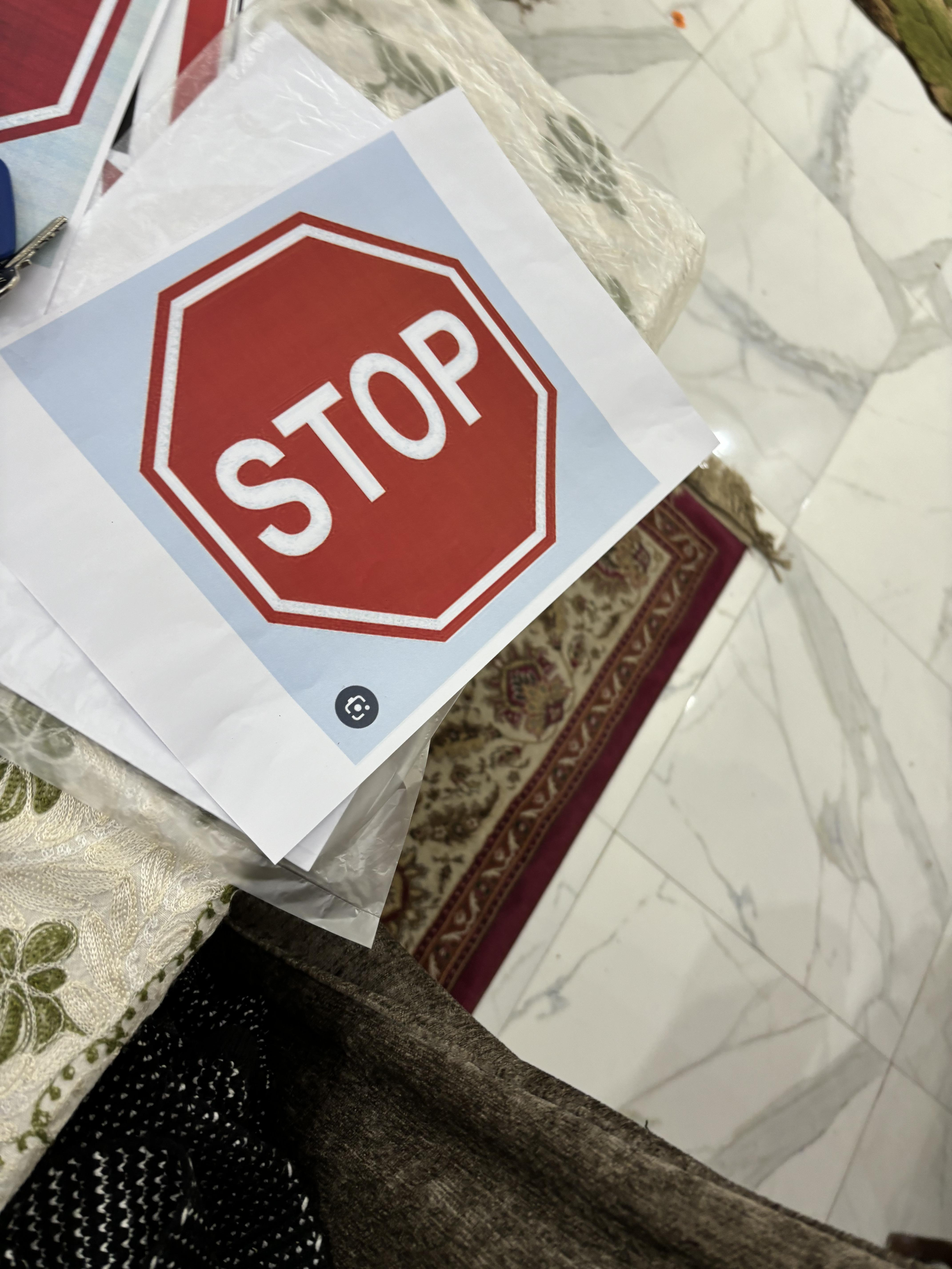Stop: (127, 196, 591, 657)
